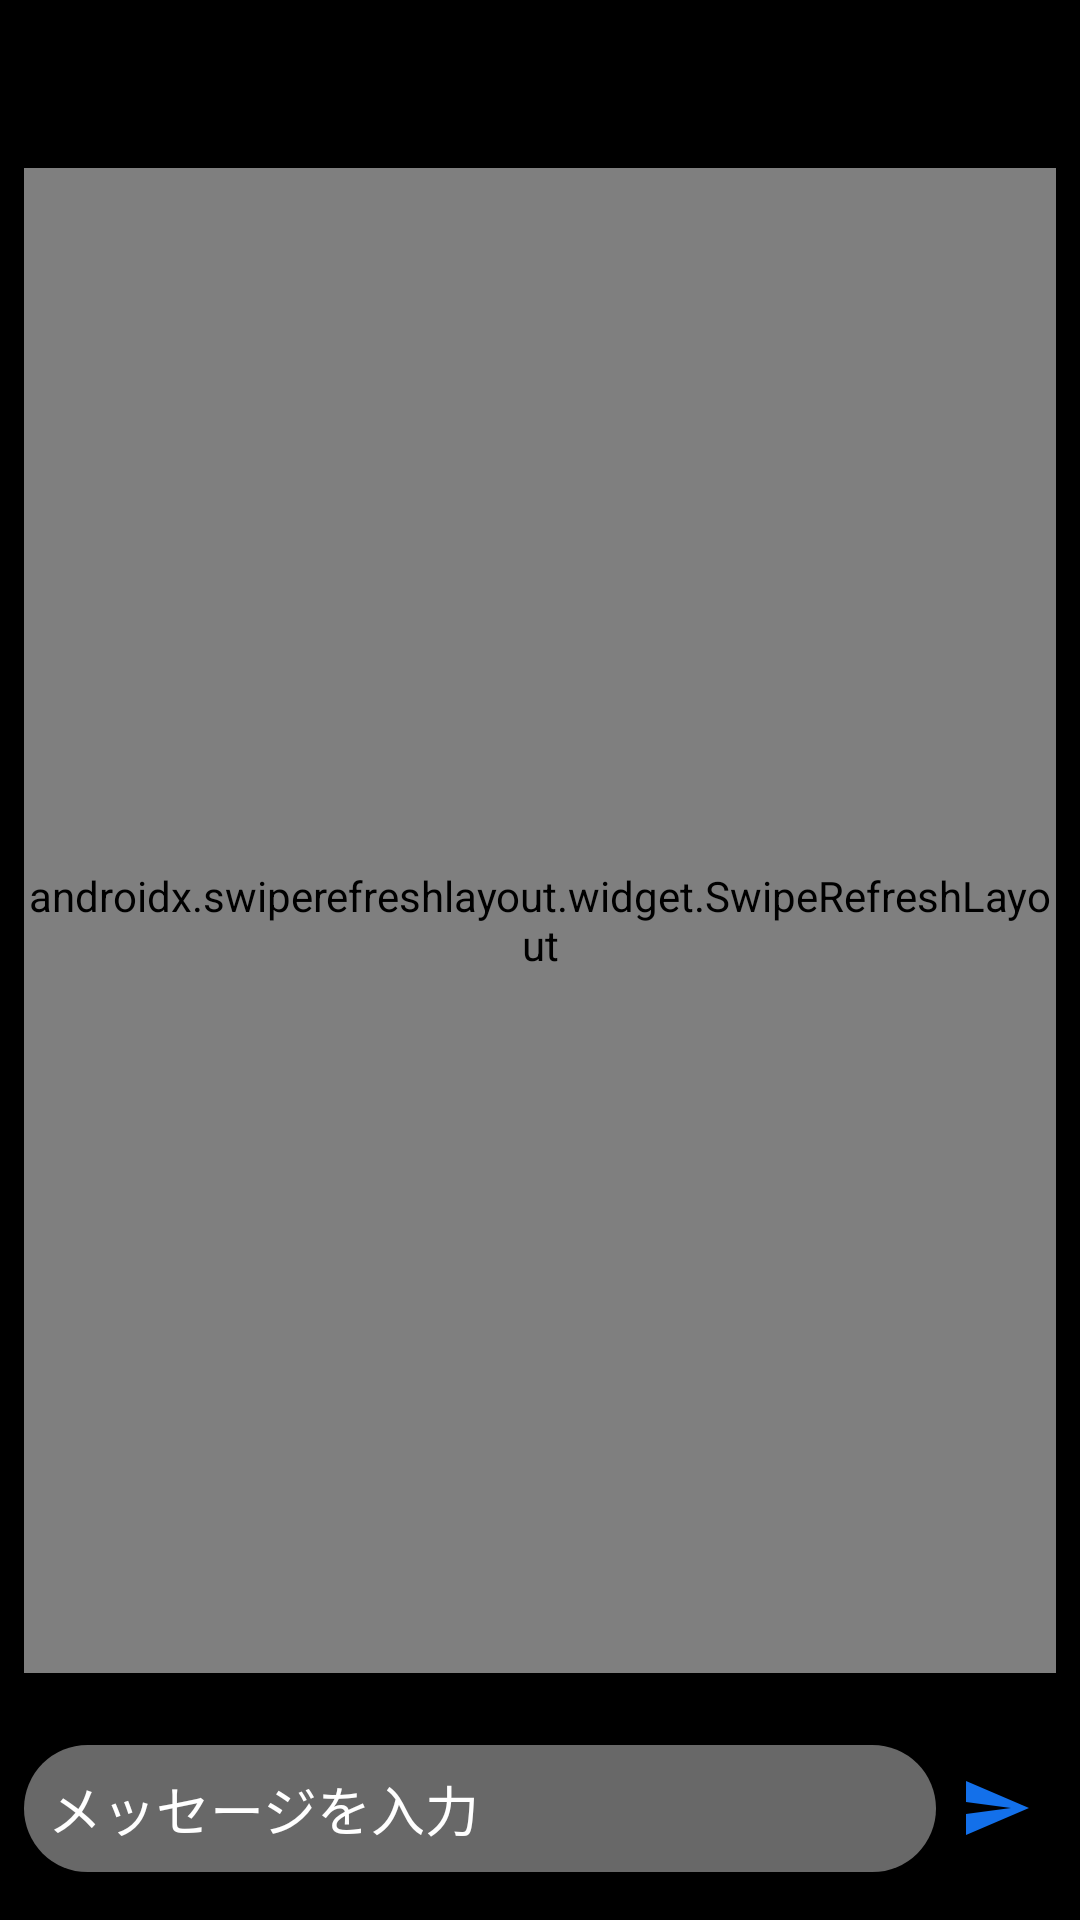

Screen size 1080w x 1920h. Icon name, then its box in pixels as detection(x1, y1, x2, y2):
send: detection(966, 1781, 1029, 1835)
